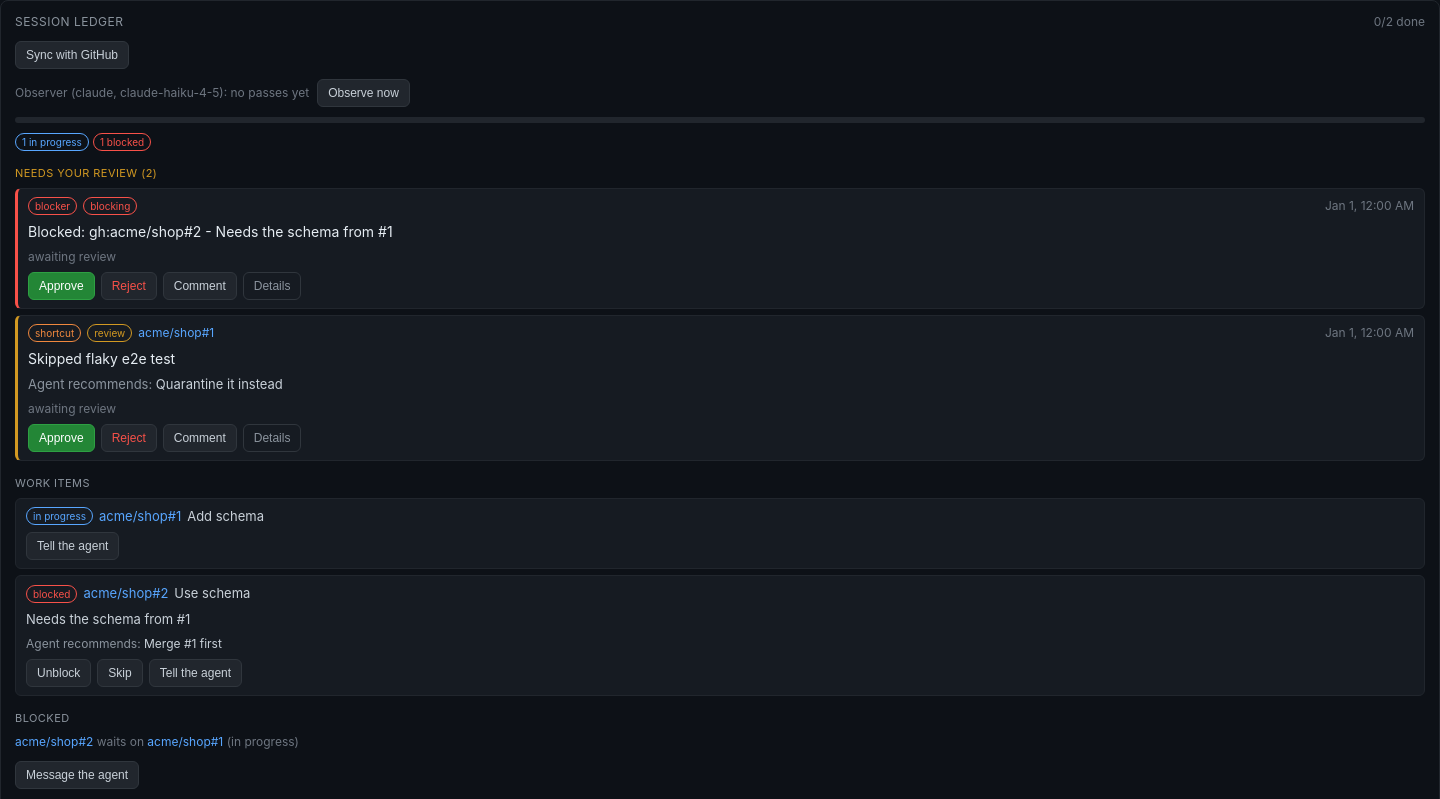
Test: LedgerPanel › shows an inline error when Observe now fails
Click the button "Observe now". click: [364, 93]
box: [317,79,410,107]
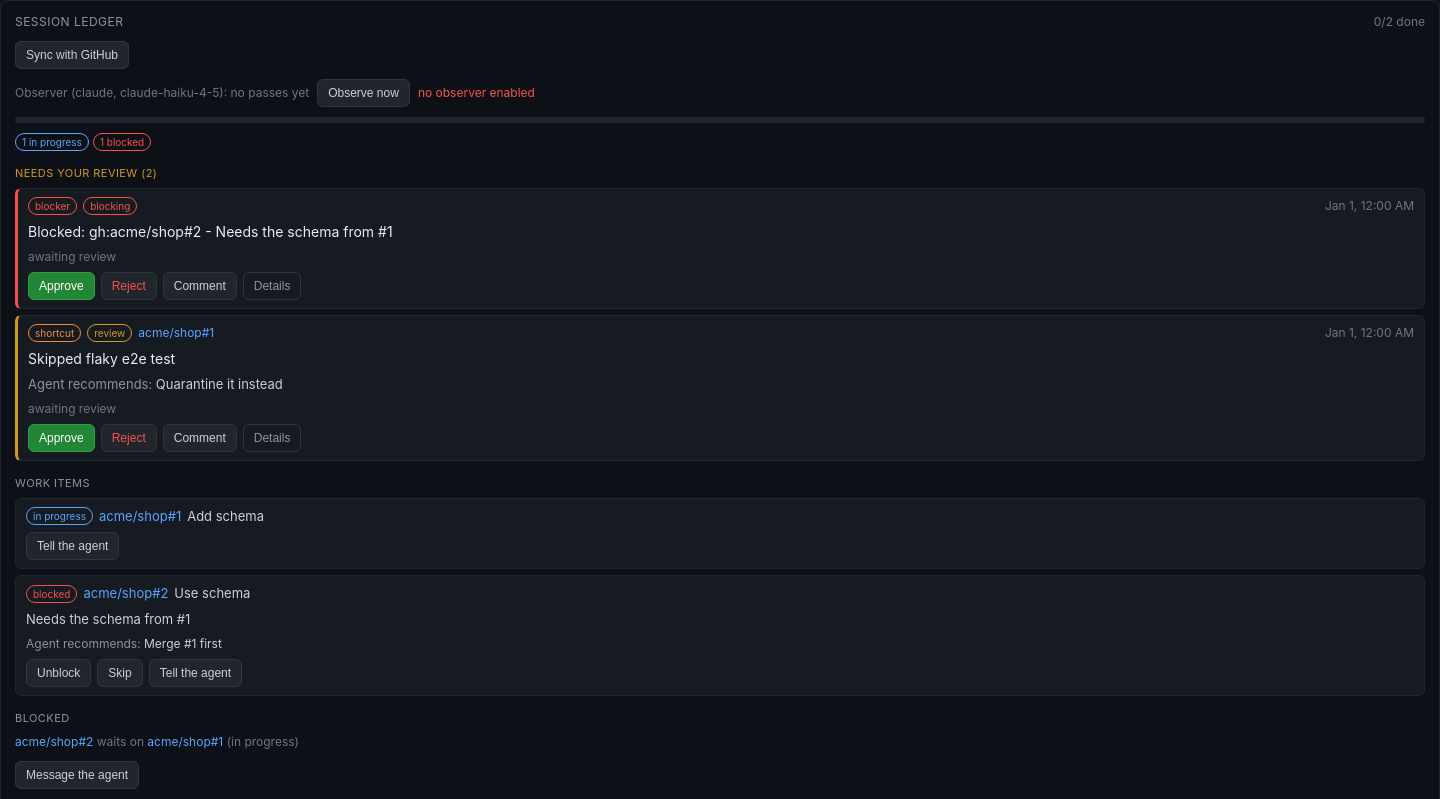
Now the text "no observer enabled" is shown, box [418,84,535,102]
